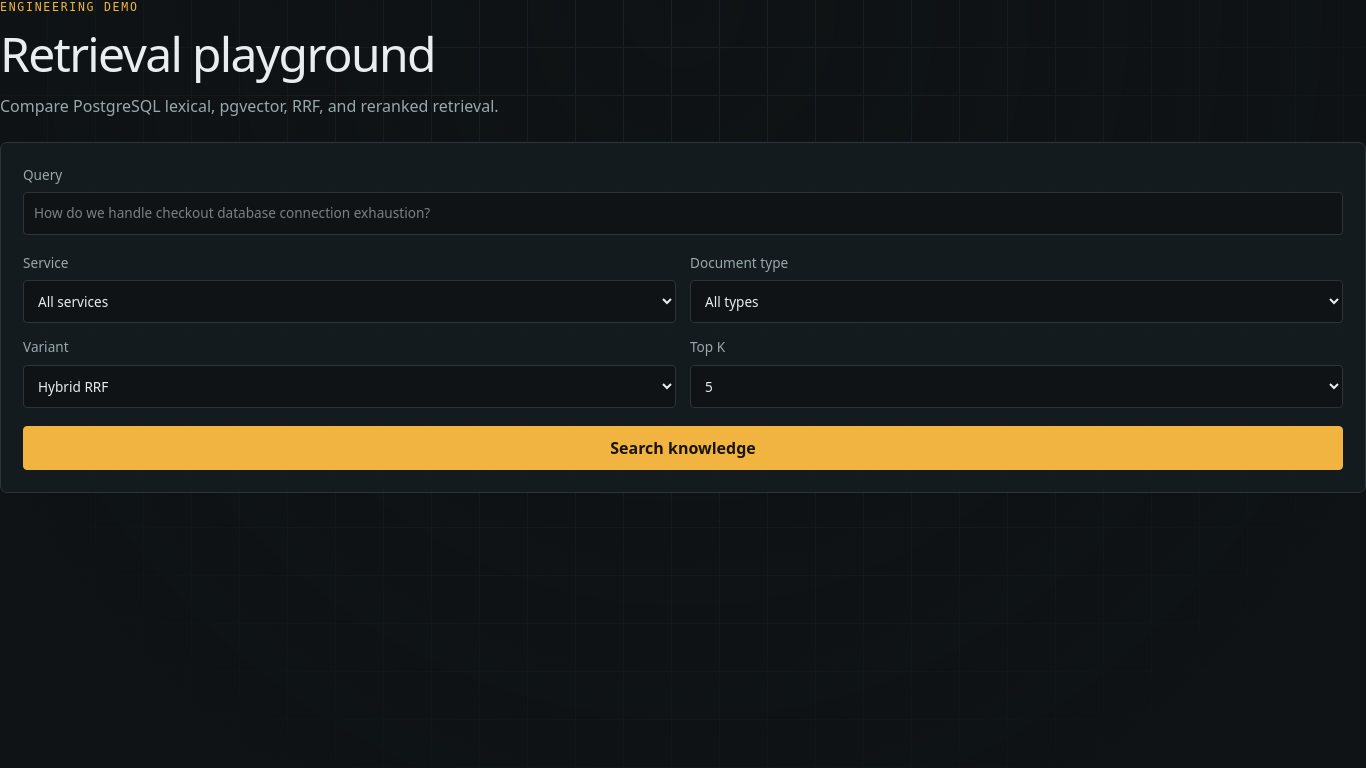
Module 3 knowledge UI › renders search filters, citation scores, and reranker fallback
Type "checkout database exhaustion" into the field labelled "Query". click: (683, 214)
box: [23,192,1343,235]
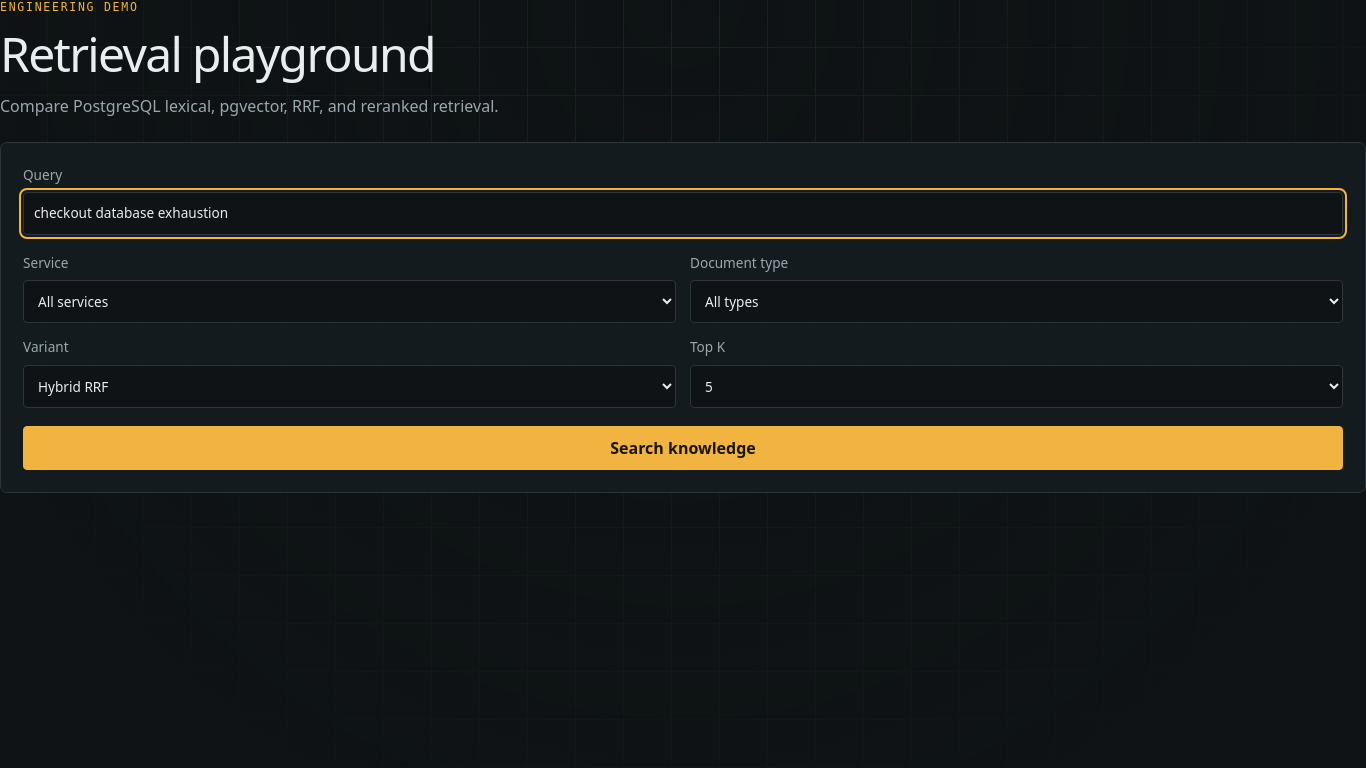
Select "Checkout" in the dropdown labelled "Service". click: (350, 302)
box: [23,280,676,323]
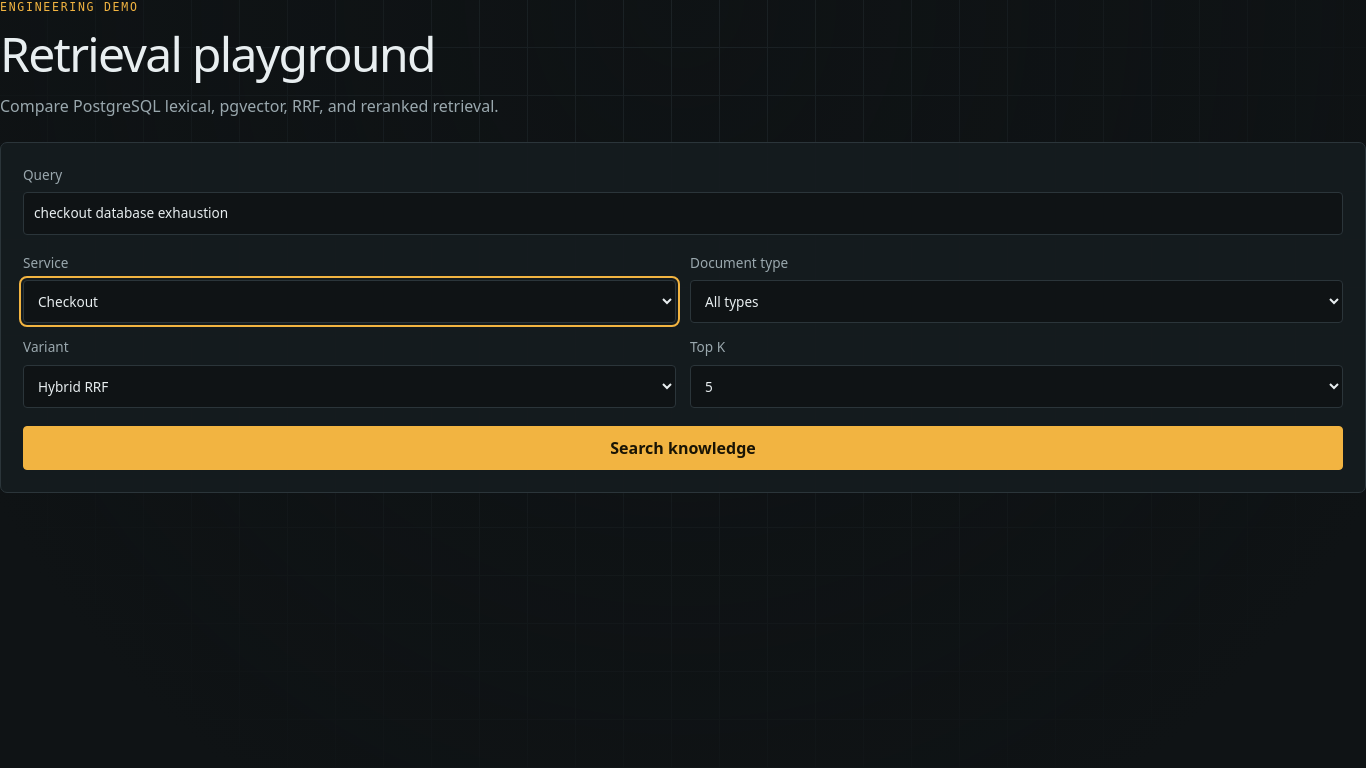
Select "Hybrid + rerank" in the dropdown labelled "Variant". click: (350, 386)
box: [23,365,676,408]
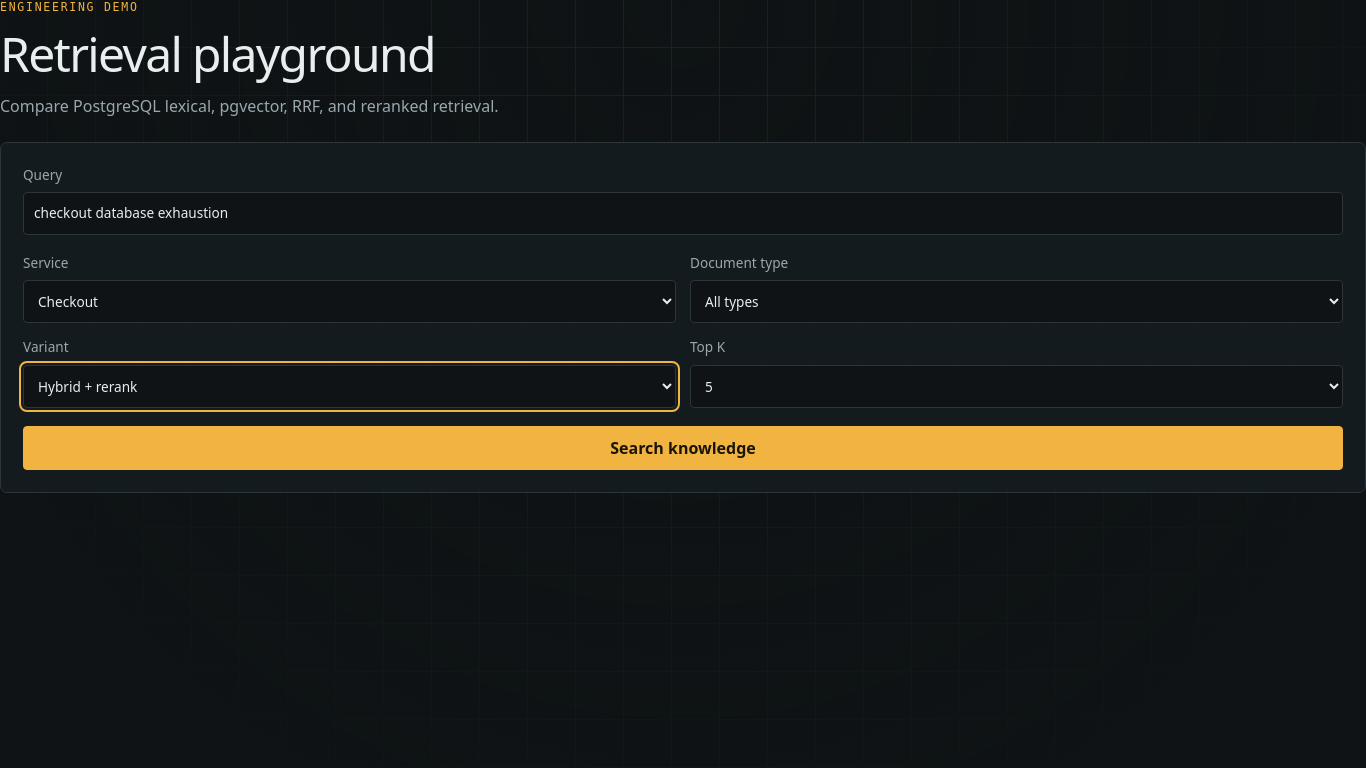
Click the button "Search knowledge". click: (683, 448)
box: [23,426,1343,470]
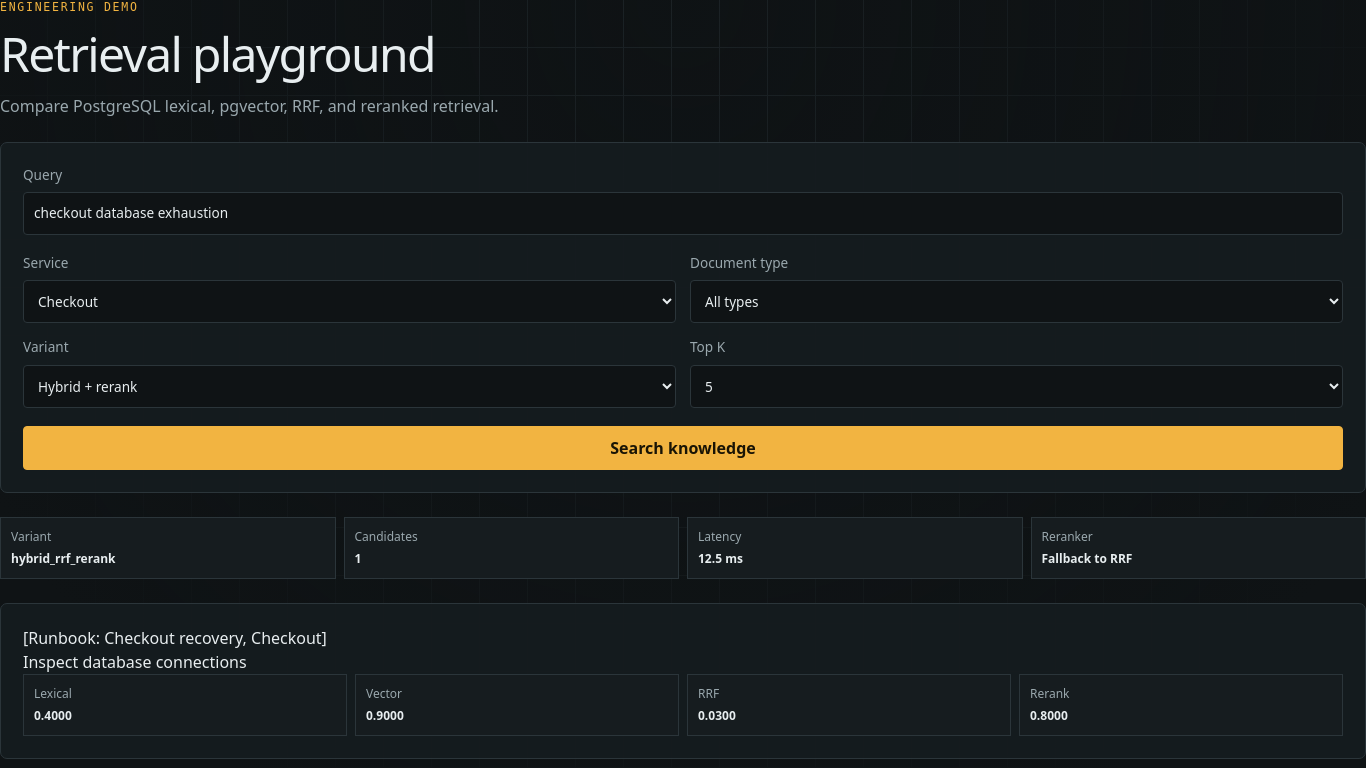
Expected: the heading "[Runbook: Checkout recovery, Checkout]" is shown, [23,627,327,649]
Expected: the text "Fallback to RRF" is shown, [1042,550,1132,567]
Expected: the text "0.0300" is shown, [698,707,736,724]
